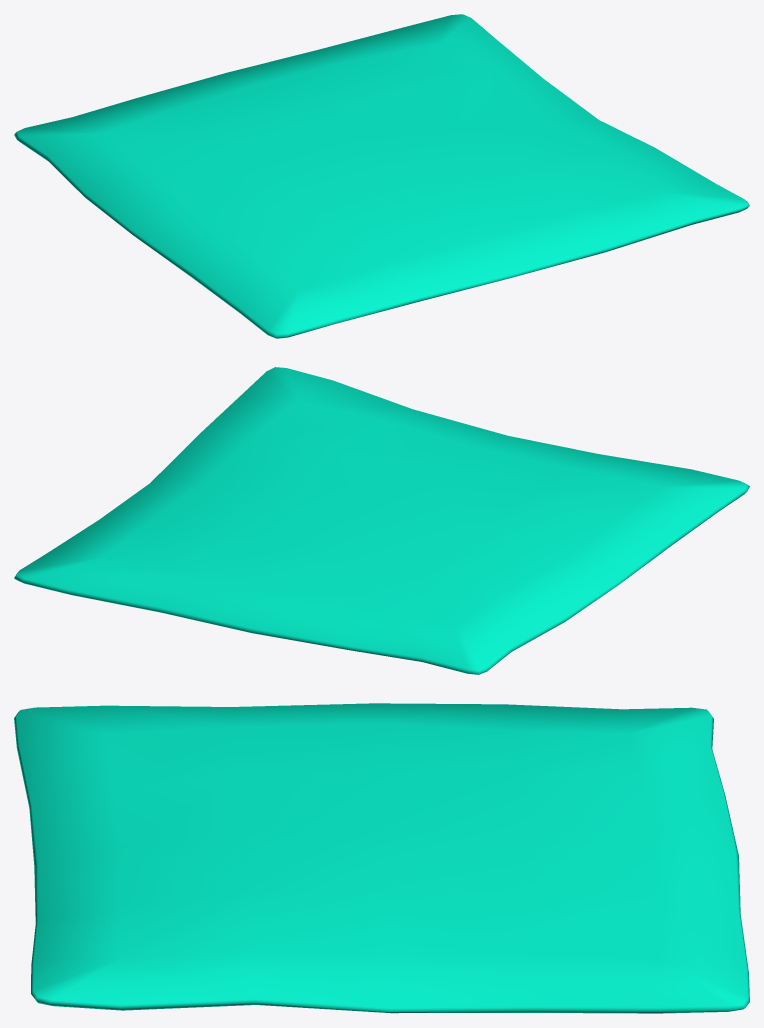
The model's file is gauze_pads.FBX.
The picture shows the model from 3 angles, top to bottom: view 1: azimuth 30°, elevation 25°; view 2: azimuth 150°, elevation 25°; view 3: azimuth 270°, elevation 25°; orthographic projection. The views are drawn at different scales.
Parts seen in each view (by area): view 1: gauze_pads; view 2: gauze_pads; view 3: gauze_pads.
Part boxes in pixels (x1,y1,x2,y2): gauze_pads: (14,14,749,338); gauze_pads: (14,367,749,674); gauze_pads: (14,703,749,1013).
Size of the model in its own units: 1.97 by 2.01 by 0.1753.
